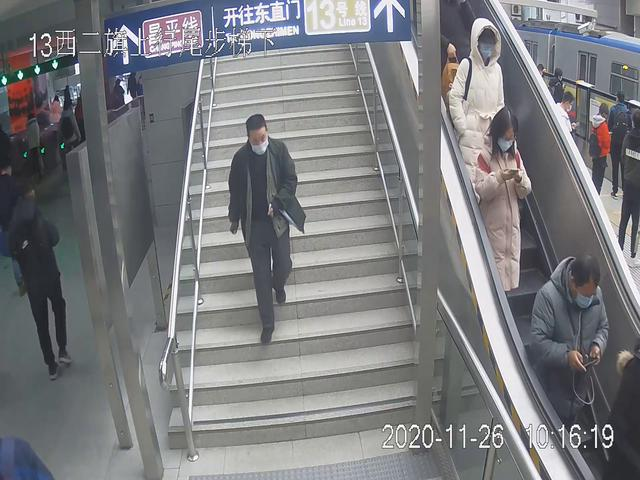person: (227, 113, 308, 349), (525, 250, 611, 448), (461, 103, 533, 321), (7, 187, 79, 386), (448, 15, 508, 198)
